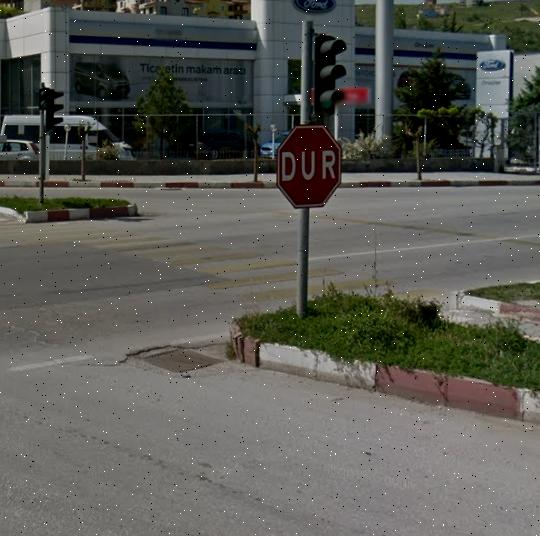stop: (280, 124, 339, 205)
